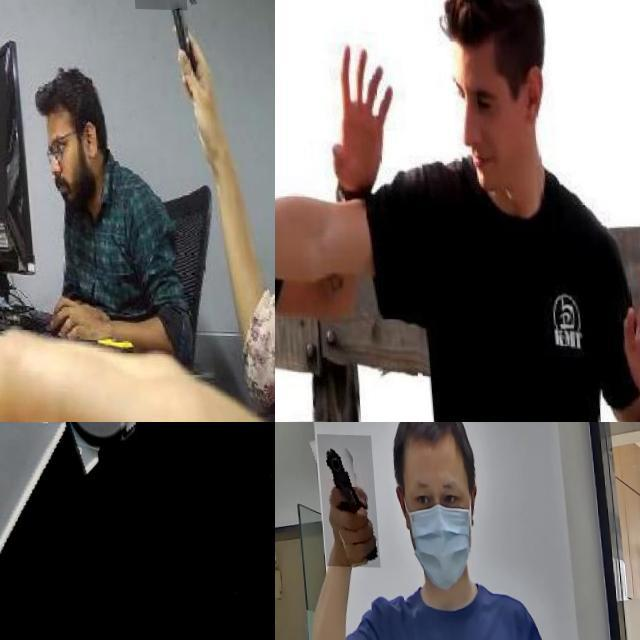-: (0, 422, 179, 640), (123, 0, 184, 80), (275, 146, 302, 257)
gun-knife-thesis - v11 Yolov5 augmented: (310, 432, 372, 566)
